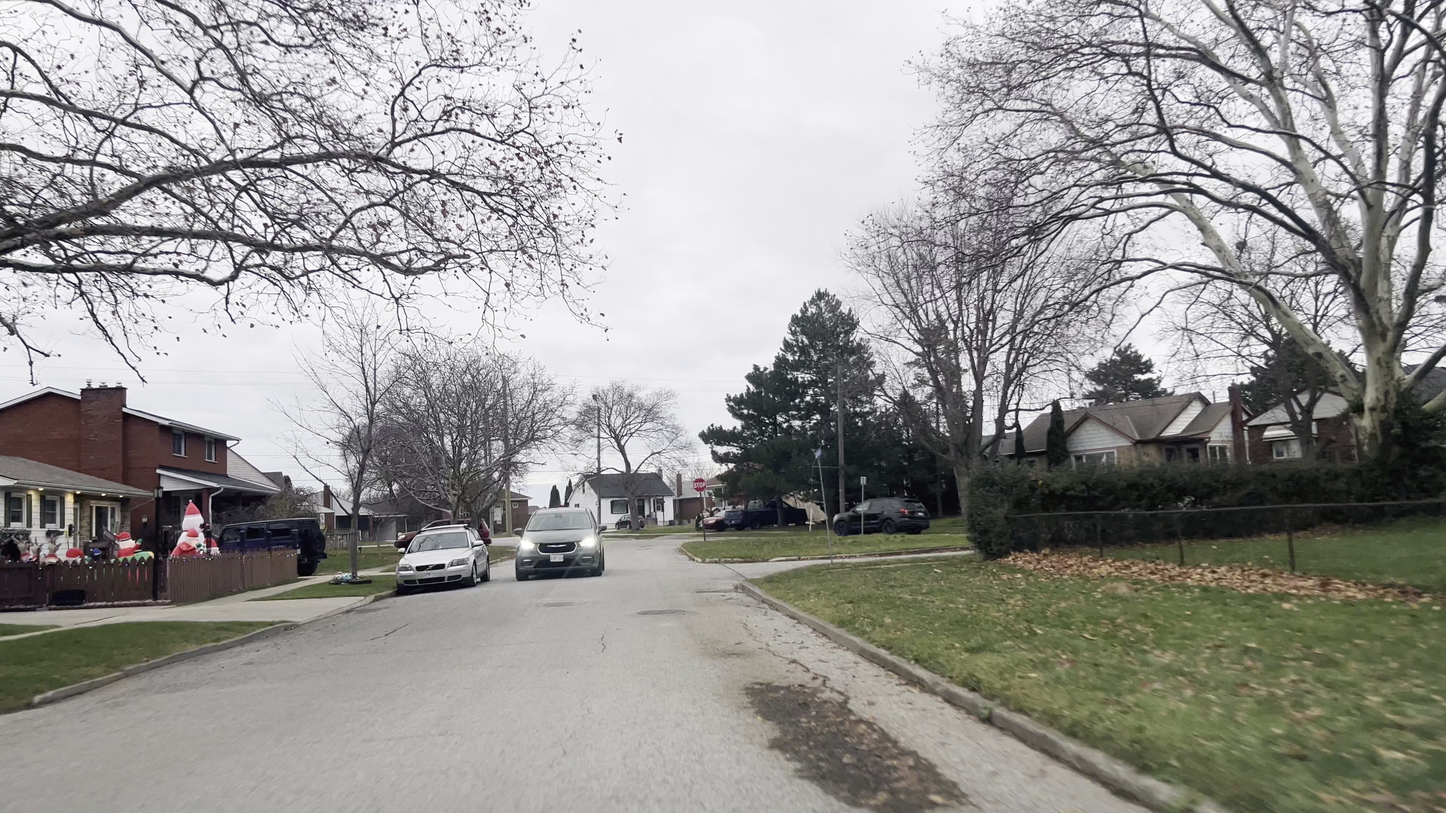flooding: (734, 667, 975, 813)
